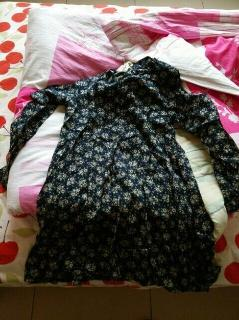long sleeve dress: (0, 56, 239, 293)
